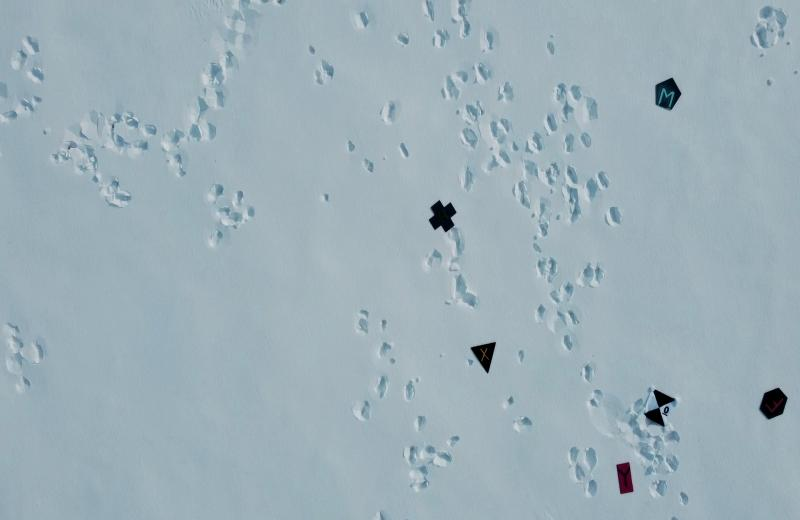Cross: (427, 198, 458, 236)
Hexagon: (758, 387, 790, 421)
Pentagon: (650, 74, 685, 113)
Rectangle: (616, 458, 636, 498)
Triangle: (468, 339, 500, 375)
